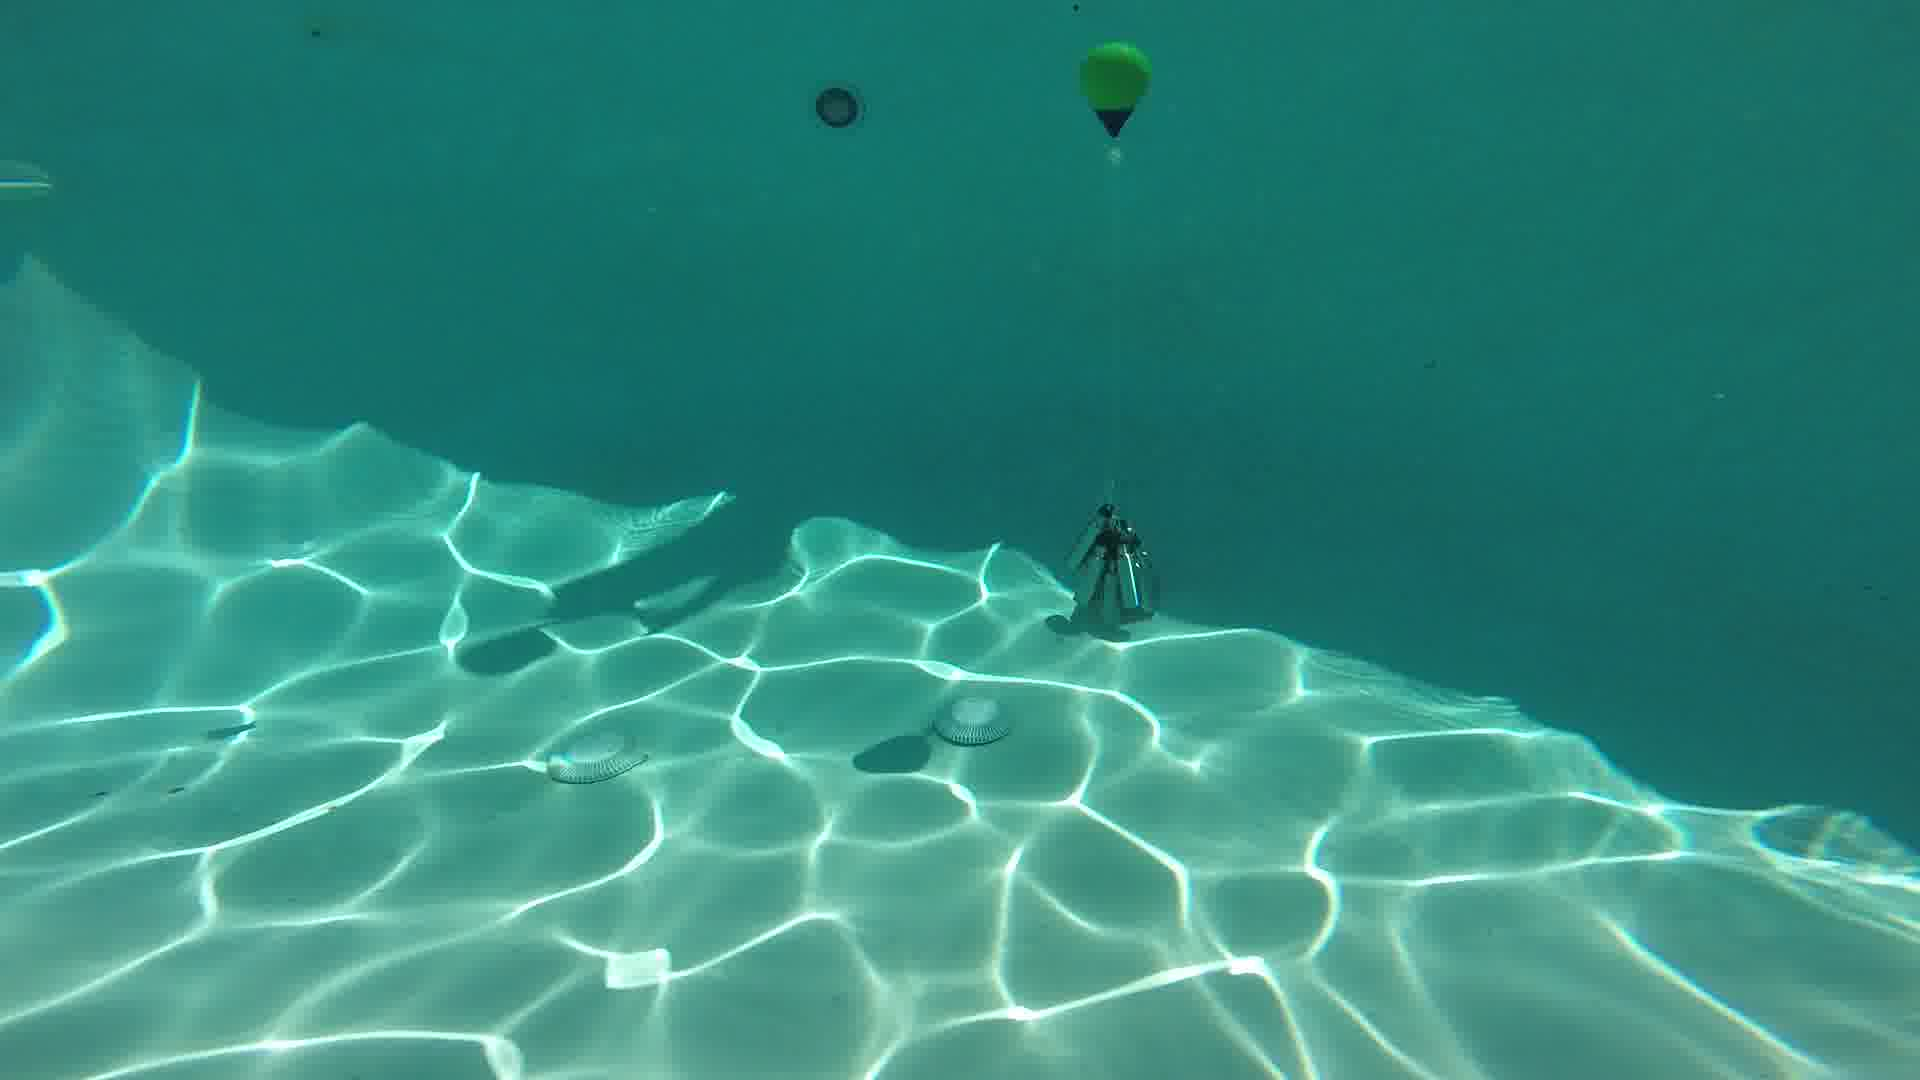yellow_buoy: (1077, 41, 1156, 171)
